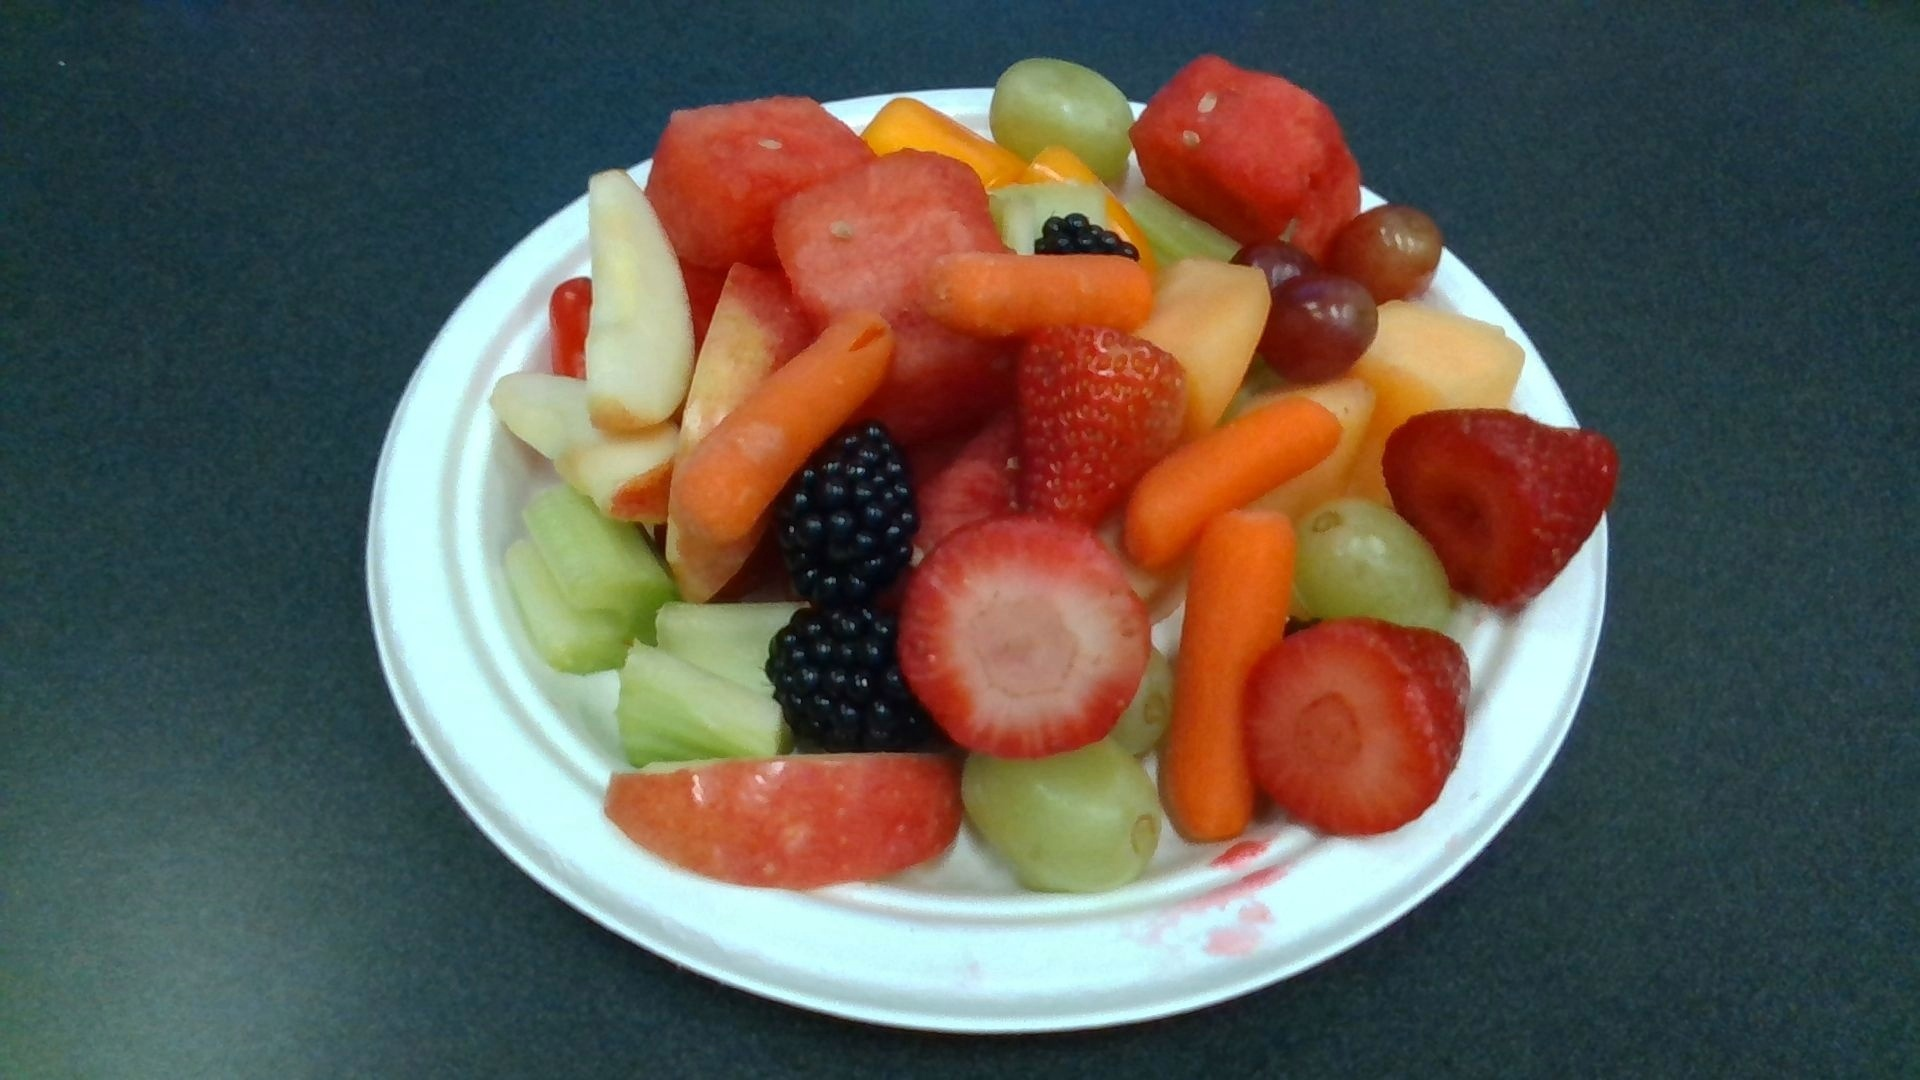apple: (605, 753, 965, 886), (667, 262, 799, 605), (487, 367, 680, 518), (585, 171, 695, 431)
blackberry: (770, 601, 935, 756), (775, 426, 914, 597)
ca: (1134, 266, 1270, 426)
cantalope: (1352, 301, 1524, 498)
carrot: (670, 311, 895, 535), (1160, 516, 1295, 837), (1125, 396, 1340, 560), (919, 251, 1156, 338)
celery: (502, 491, 667, 675), (620, 603, 796, 753)
grape_green: (964, 736, 1160, 893), (1295, 500, 1452, 633), (992, 58, 1135, 183)
grape_purple: (1255, 276, 1377, 381), (1345, 200, 1443, 298)
melon: (771, 153, 1021, 435), (645, 95, 880, 328), (1130, 58, 1362, 262)
strawberry: (899, 516, 1149, 756), (1240, 620, 1470, 836), (1385, 407, 1614, 608), (1014, 330, 1189, 516)
